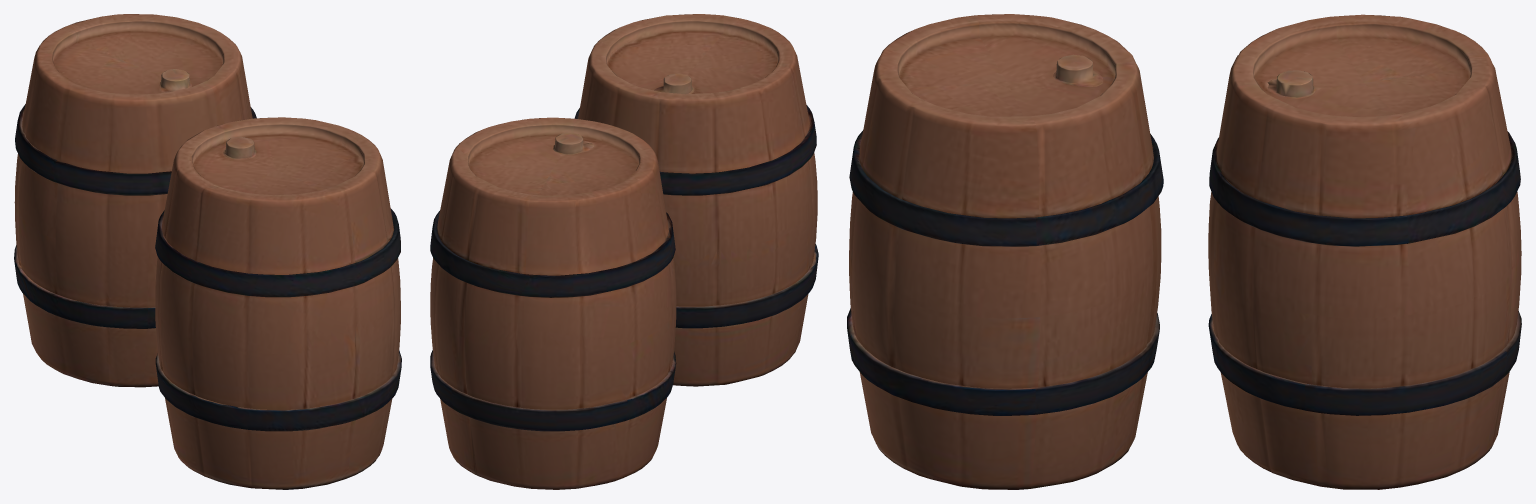
File: barrel.glb
The picture shows the model from 3 angles, left to right: view 1: azimuth 30°, elevation 25°; view 2: azimuth 150°, elevation 25°; view 3: azimuth 270°, elevation 25°; orthographic projection. The views are drawn at different scales.
Parts seen in each view (by area): view 1: tripo_node_01e912ac-0de4-4c29-9640-402d3729b8ed; view 2: tripo_node_01e912ac-0de4-4c29-9640-402d3729b8ed; view 3: tripo_node_01e912ac-0de4-4c29-9640-402d3729b8ed.
Part boxes in pixels (<box>): tripo_node_01e912ac-0de4-4c29-9640-402d3729b8ed: <box>14,14,401,489</box>; tripo_node_01e912ac-0de4-4c29-9640-402d3729b8ed: <box>430,14,818,489</box>; tripo_node_01e912ac-0de4-4c29-9640-402d3729b8ed: <box>847,14,1521,489</box>.
Size of the model in its own units: 0.4673 by 0.604 by 0.999.
Materials: 1 (1 with a texture image).
